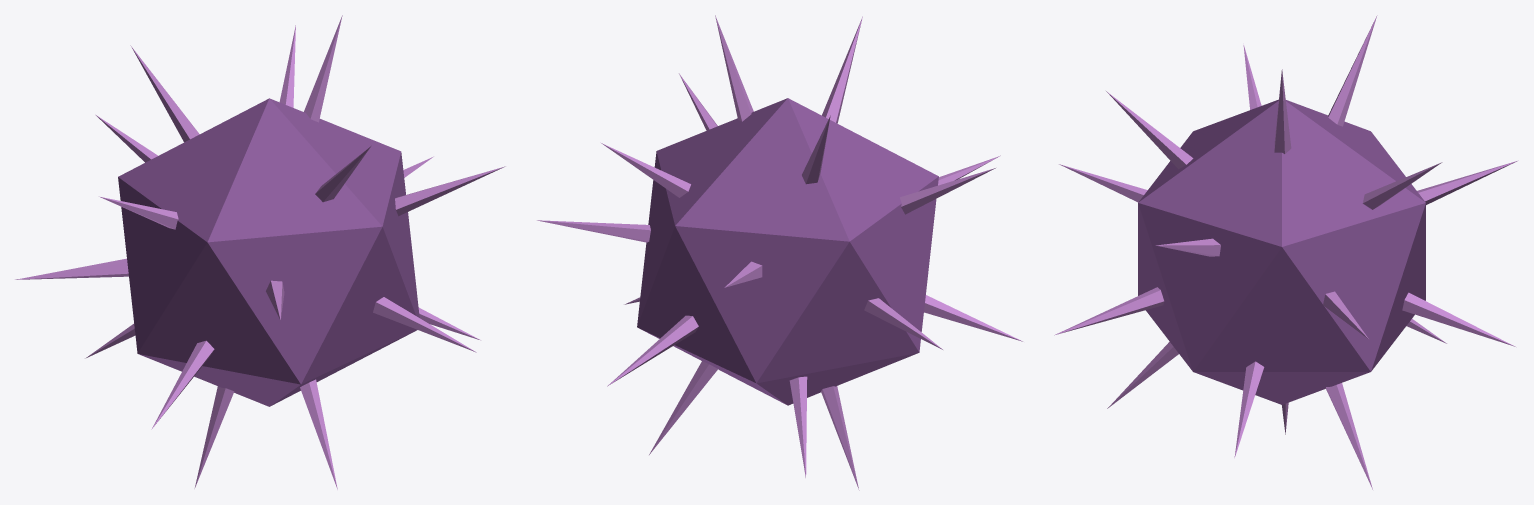
File: Urchin.fbx
3 renders of one model, left to right at view 1: azimuth 30°, elevation 25°; view 2: azimuth 150°, elevation 25°; view 3: azimuth 270°, elevation 25°, orthographic.
Visible parts, largest first — view 1: Body; view 2: Body; view 3: Body.
Part boxes in pixels (box(x1,y1,x2,y2)): Body: box(15, 15, 505, 489); Body: box(537, 15, 1022, 490); Body: box(1054, 15, 1518, 489).
Size of the model in its own units: 0.9862 by 1 by 0.965.
